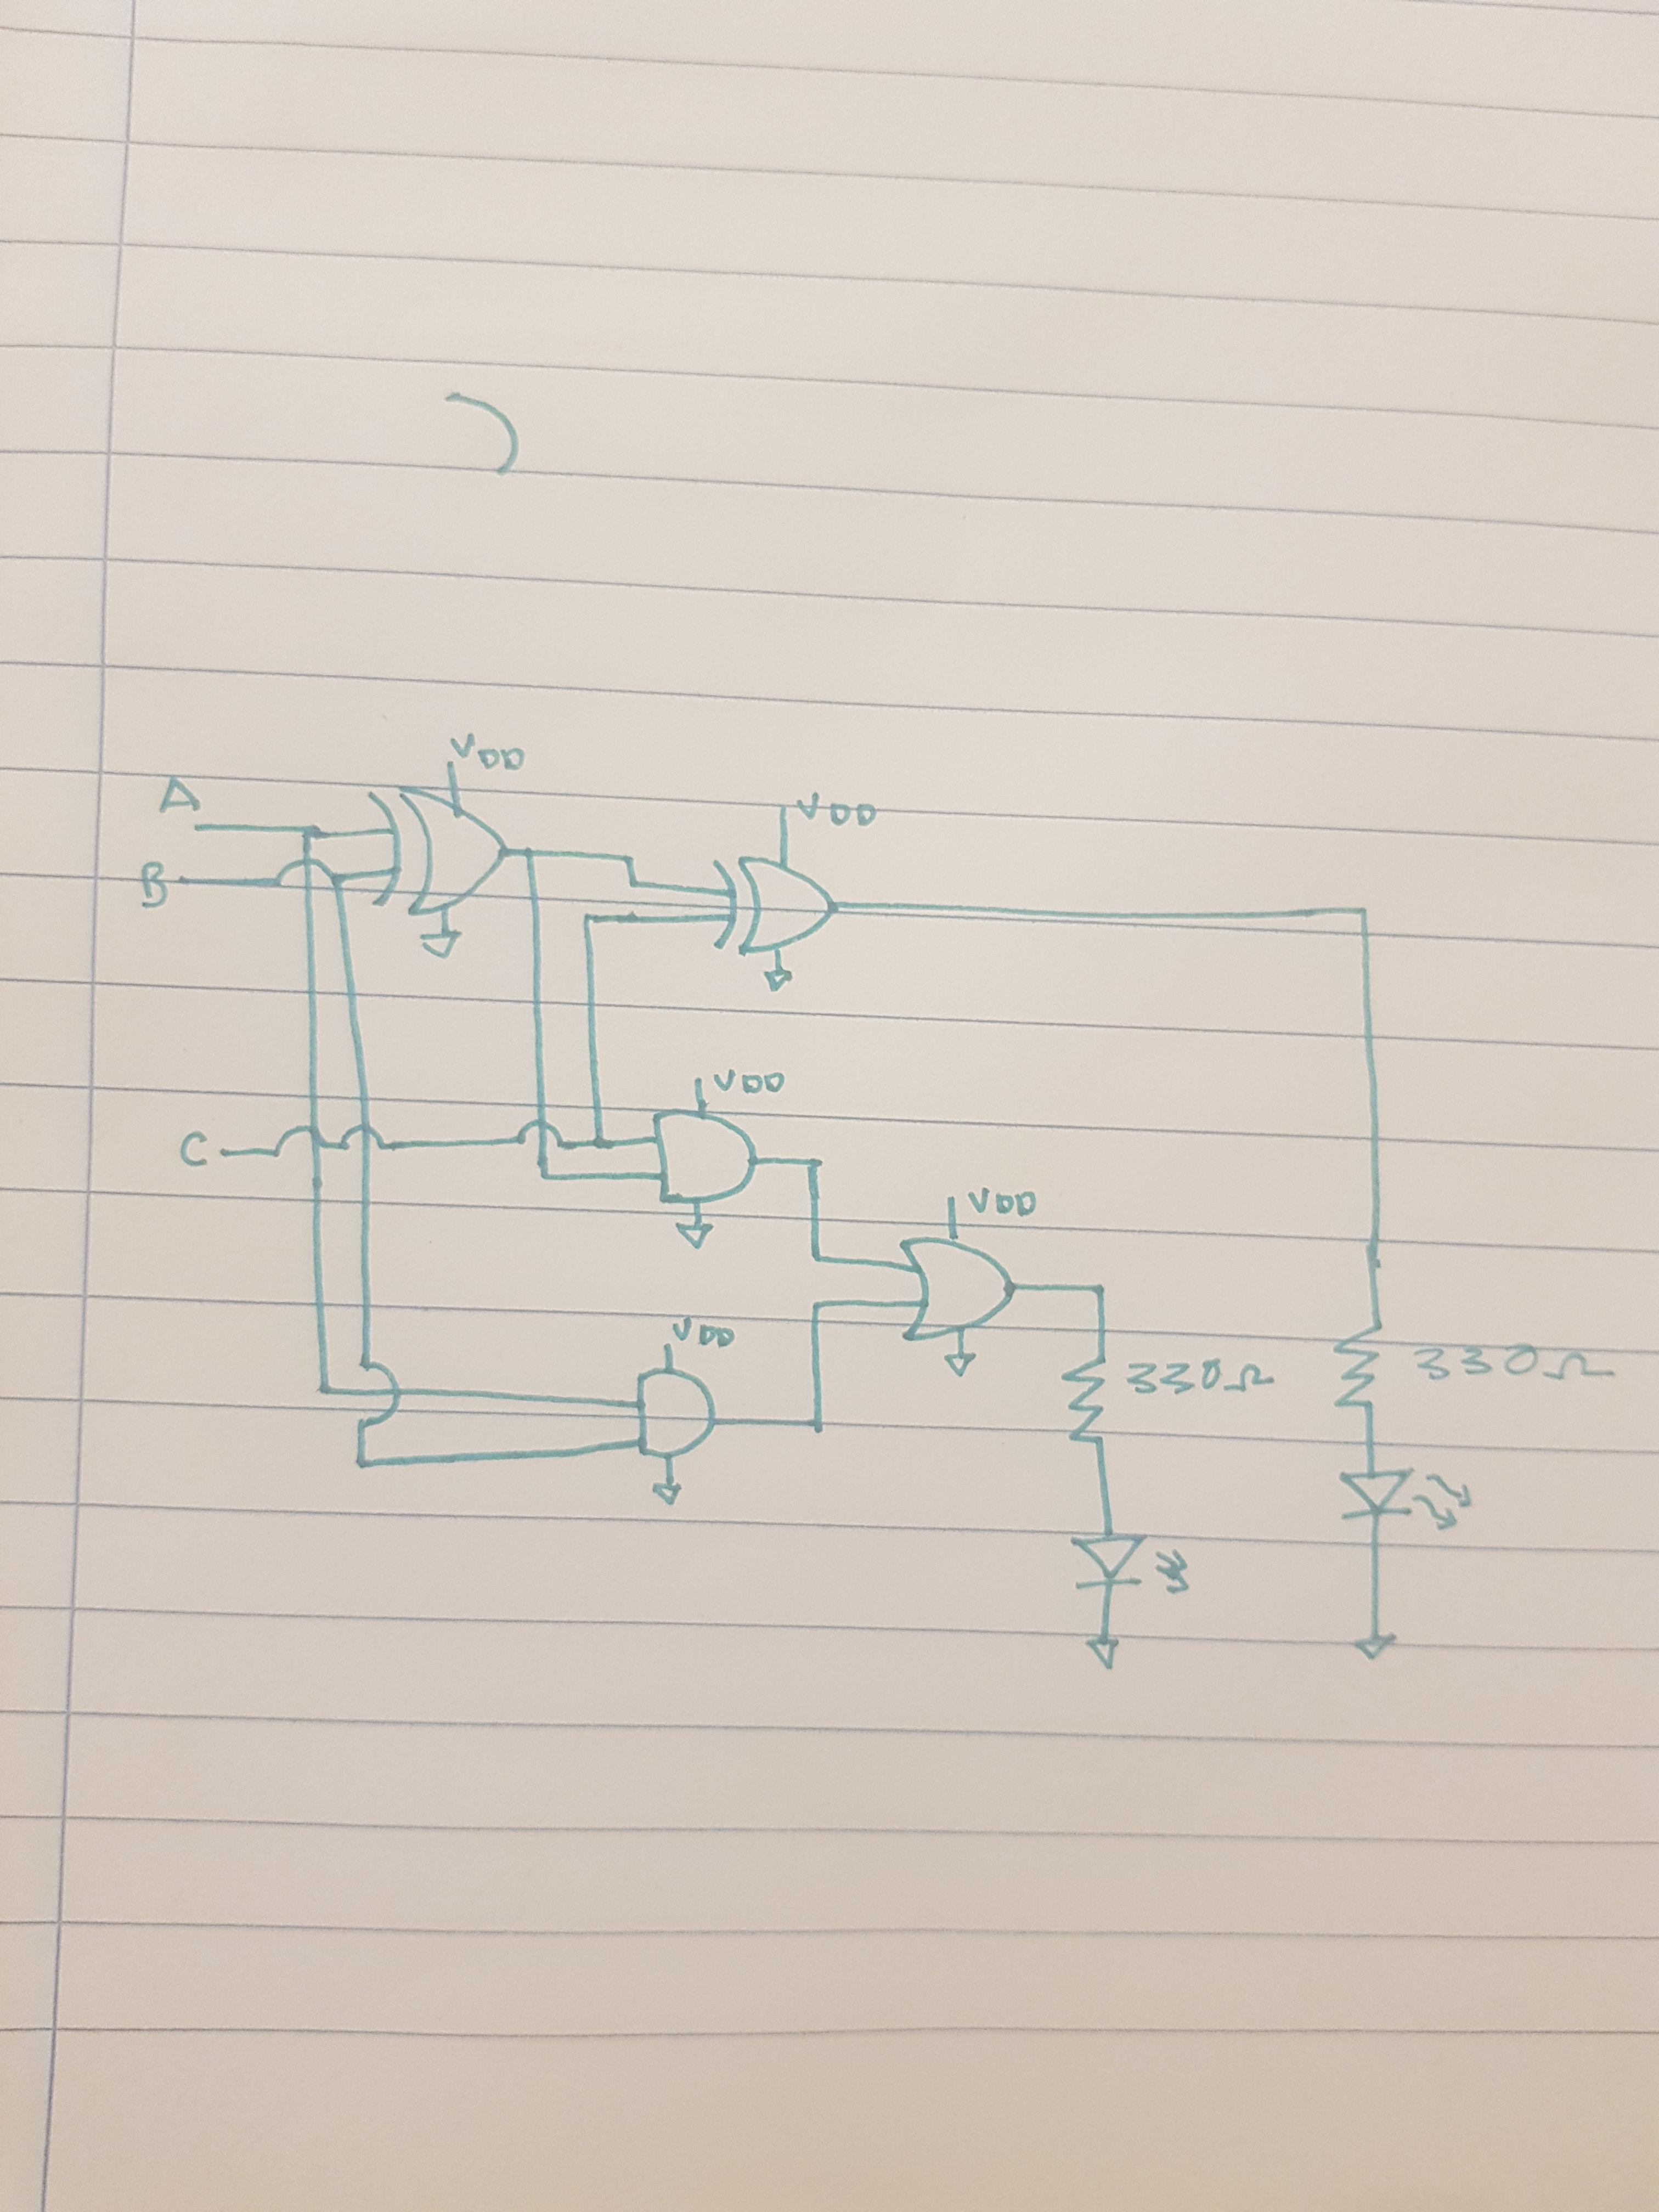and: (643, 1094, 763, 1207), (626, 1359, 728, 1468)
crossover: (354, 1355, 401, 1433), (270, 857, 343, 895), (270, 1122, 331, 1163), (512, 1118, 565, 1151), (340, 1122, 387, 1158)
diode.light_emitting: (1331, 1461, 1481, 1536), (1063, 1524, 1199, 1606)
gnd: (416, 930, 465, 965), (671, 1217, 720, 1252), (938, 1348, 986, 1383), (645, 1480, 694, 1515), (1082, 1637, 1131, 1672), (1349, 1632, 1398, 1667), (758, 967, 795, 993)
junction: (622, 852, 645, 890), (803, 1413, 831, 1442), (530, 1167, 558, 1191), (803, 1155, 828, 1177), (589, 1136, 613, 1157), (580, 909, 601, 934), (1091, 1280, 1112, 1301), (807, 1249, 830, 1268), (807, 1296, 824, 1320), (350, 1456, 371, 1475), (298, 822, 317, 843), (315, 1378, 333, 1400), (521, 845, 538, 864), (1352, 904, 1373, 918)
or: (892, 1221, 1023, 1346)
resistor: (1051, 1350, 1121, 1454), (1328, 1312, 1391, 1420)
terminal: (183, 815, 213, 845), (169, 867, 200, 895), (213, 1143, 240, 1167)
text: (1406, 1341, 1617, 1383), (1122, 1355, 1279, 1399), (793, 787, 884, 829), (448, 730, 528, 772), (152, 772, 209, 819), (965, 1184, 1039, 1219), (669, 1315, 737, 1350), (711, 1066, 786, 1096), (136, 857, 171, 913), (174, 1127, 211, 1170)
xor: (359, 779, 509, 920), (702, 838, 840, 958)
